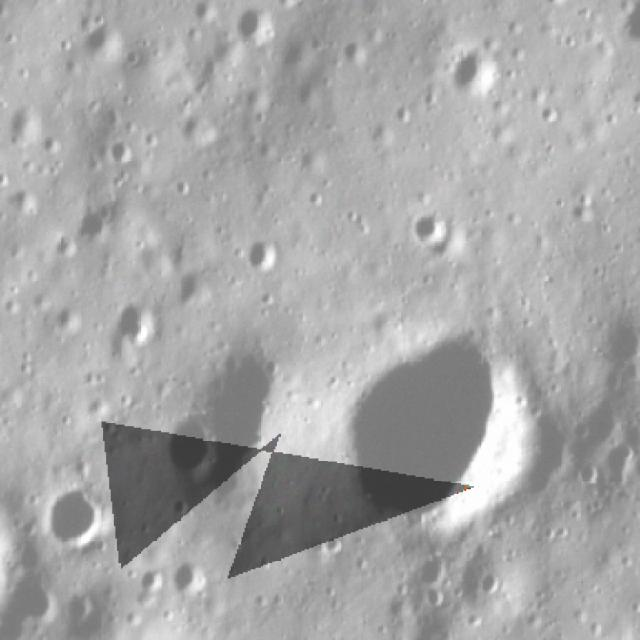crater: (326, 314, 551, 544), (194, 343, 291, 512), (42, 477, 118, 555), (155, 414, 223, 486), (0, 564, 66, 631), (70, 12, 132, 72), (570, 388, 624, 454), (102, 291, 156, 355), (443, 45, 505, 98), (177, 103, 226, 157), (598, 312, 640, 374), (399, 204, 453, 250), (163, 558, 212, 608), (229, 3, 274, 54), (243, 224, 285, 278), (175, 260, 216, 314), (74, 202, 120, 247), (407, 553, 451, 589), (54, 298, 89, 342), (293, 73, 329, 115), (136, 562, 170, 600), (61, 592, 99, 626), (336, 36, 375, 69), (615, 0, 640, 49), (477, 566, 503, 602), (576, 457, 604, 489), (317, 532, 348, 558), (423, 582, 448, 613), (105, 136, 132, 164), (394, 635, 423, 640), (638, 544, 640, 574)
